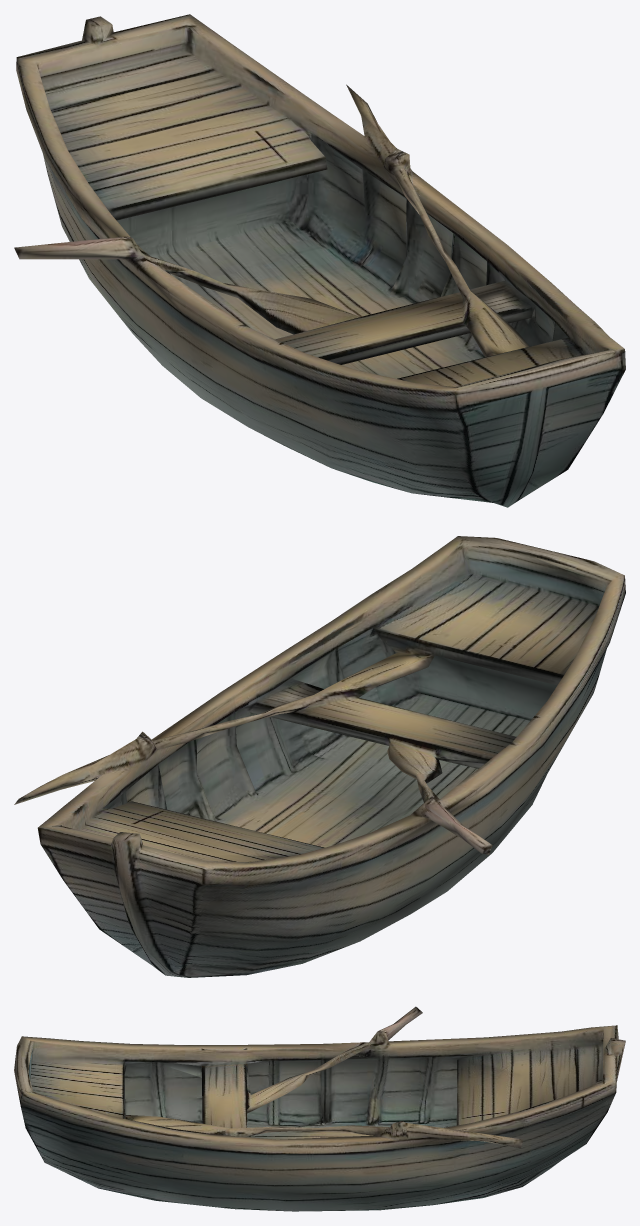
The model's file is demo_rowboat_shanhai.glb.
3 views of the same model, one above another, from view 1: azimuth 30°, elevation 25°; view 2: azimuth 150°, elevation 25°; view 3: azimuth 270°, elevation 25° (orthographic). The views are drawn at different scales.
Parts seen in each view (by area): view 1: tripo_node_f49d8a1f-f5d6-4a85-8b3a-22bbd3f71db8.001; view 2: tripo_node_f49d8a1f-f5d6-4a85-8b3a-22bbd3f71db8.001; view 3: tripo_node_f49d8a1f-f5d6-4a85-8b3a-22bbd3f71db8.001.
Boxes of the visible parts, box(x1,y1,x2,y2) form: tripo_node_f49d8a1f-f5d6-4a85-8b3a-22bbd3f71db8.001: box(14, 14, 625, 507); tripo_node_f49d8a1f-f5d6-4a85-8b3a-22bbd3f71db8.001: box(14, 536, 625, 977); tripo_node_f49d8a1f-f5d6-4a85-8b3a-22bbd3f71db8.001: box(14, 1006, 625, 1211).
Size of the model in its own units: 0.5389 by 0.2421 by 1.
Materials: 1 (1 with a texture image).
